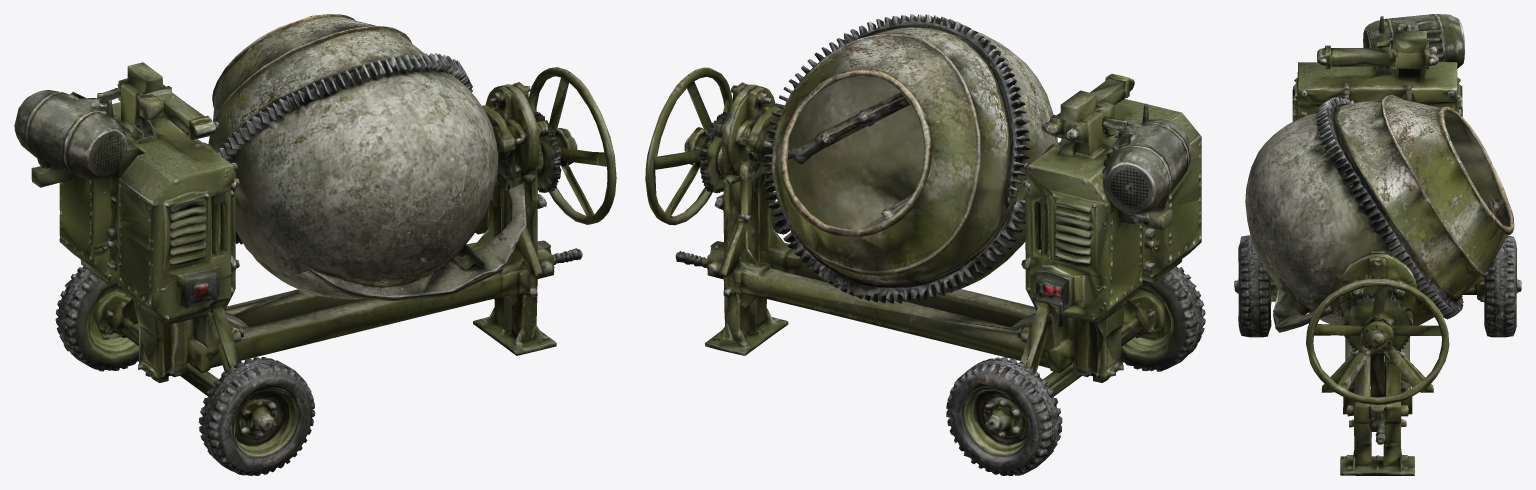
Rendered from betoneira-obra_lod0.glb.
3 views of the same model, side by side, from view 1: azimuth 30°, elevation 25°; view 2: azimuth 150°, elevation 25°; view 3: azimuth 270°, elevation 25° (orthographic). The views are drawn at different scales.
Visible parts, largest first — view 1: tripo_node_4d887b13-b961-468a-b6ab-97e5996a428b; view 2: tripo_node_4d887b13-b961-468a-b6ab-97e5996a428b; view 3: tripo_node_4d887b13-b961-468a-b6ab-97e5996a428b.
Part boxes in pixels (bbox=[...]): tripo_node_4d887b13-b961-468a-b6ab-97e5996a428b: bbox=[14, 14, 616, 475]; tripo_node_4d887b13-b961-468a-b6ab-97e5996a428b: bbox=[645, 14, 1205, 475]; tripo_node_4d887b13-b961-468a-b6ab-97e5996a428b: bbox=[1234, 14, 1521, 475].
Size of the model in its own units: 2.2 by 1.38 by 1.22.
1 material, 1 textured.
